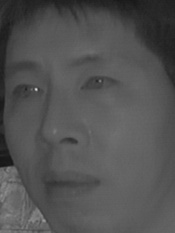eye: (78, 71, 121, 96), (10, 81, 46, 104)
mouth: (35, 162, 103, 202)
